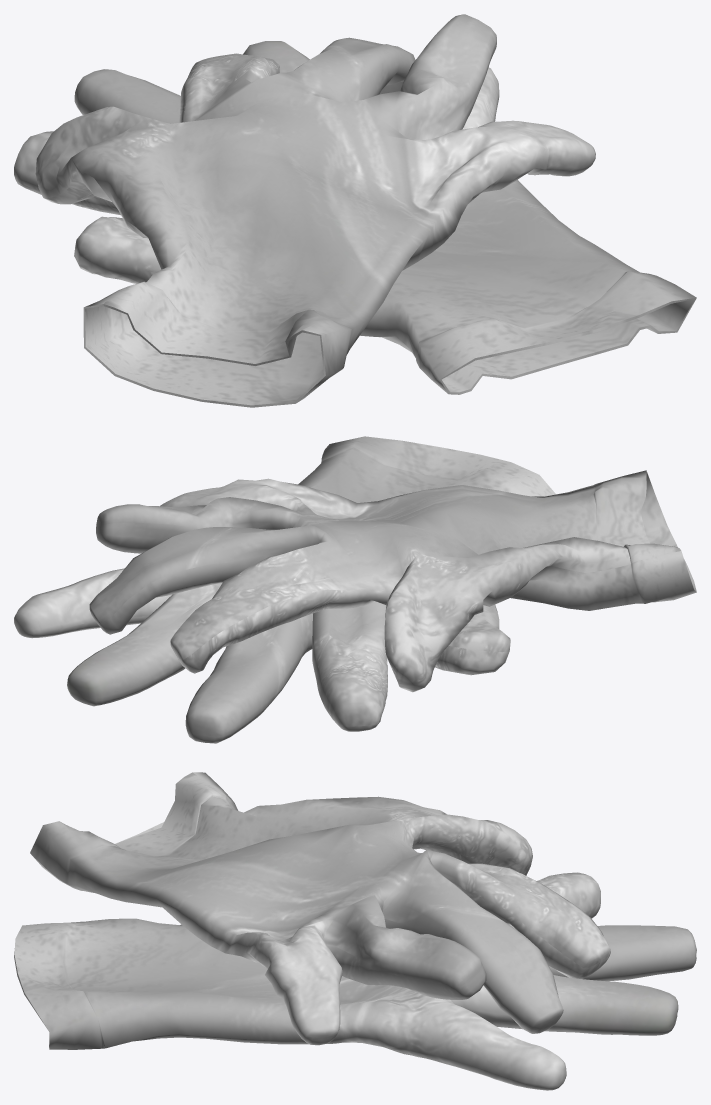
The picture shows the model from 3 angles, top to bottom: view 1: azimuth 30°, elevation 25°; view 2: azimuth 150°, elevation 25°; view 3: azimuth 270°, elevation 25°; orthographic projection. The views are drawn at different scales.
Visible parts, largest first — view 1: Gloves2; view 2: Gloves2; view 3: Gloves2.
Boxes of the visible parts, left/top/right/bottom form: Gloves2: left=14, top=14, right=696, bottom=407; Gloves2: left=14, top=436, right=696, bottom=743; Gloves2: left=14, top=772, right=696, bottom=1090.
Size of the model in its own units: 5.91 by 1.34 by 6.7.
Materials: 2 (2 with a texture image).
